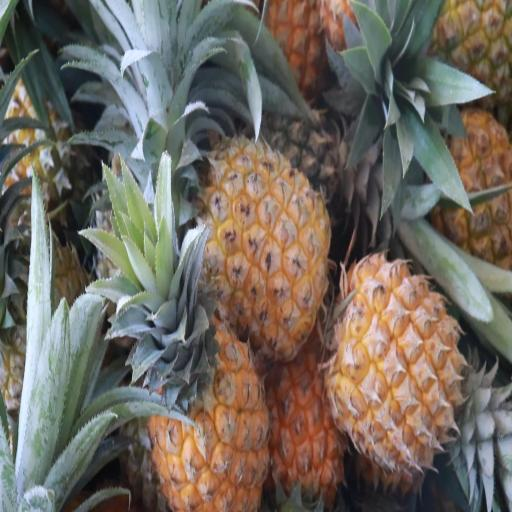Pineapple - v8 v1: (330, 256, 476, 467), (197, 138, 333, 358), (150, 268, 271, 512), (267, 346, 352, 512)
